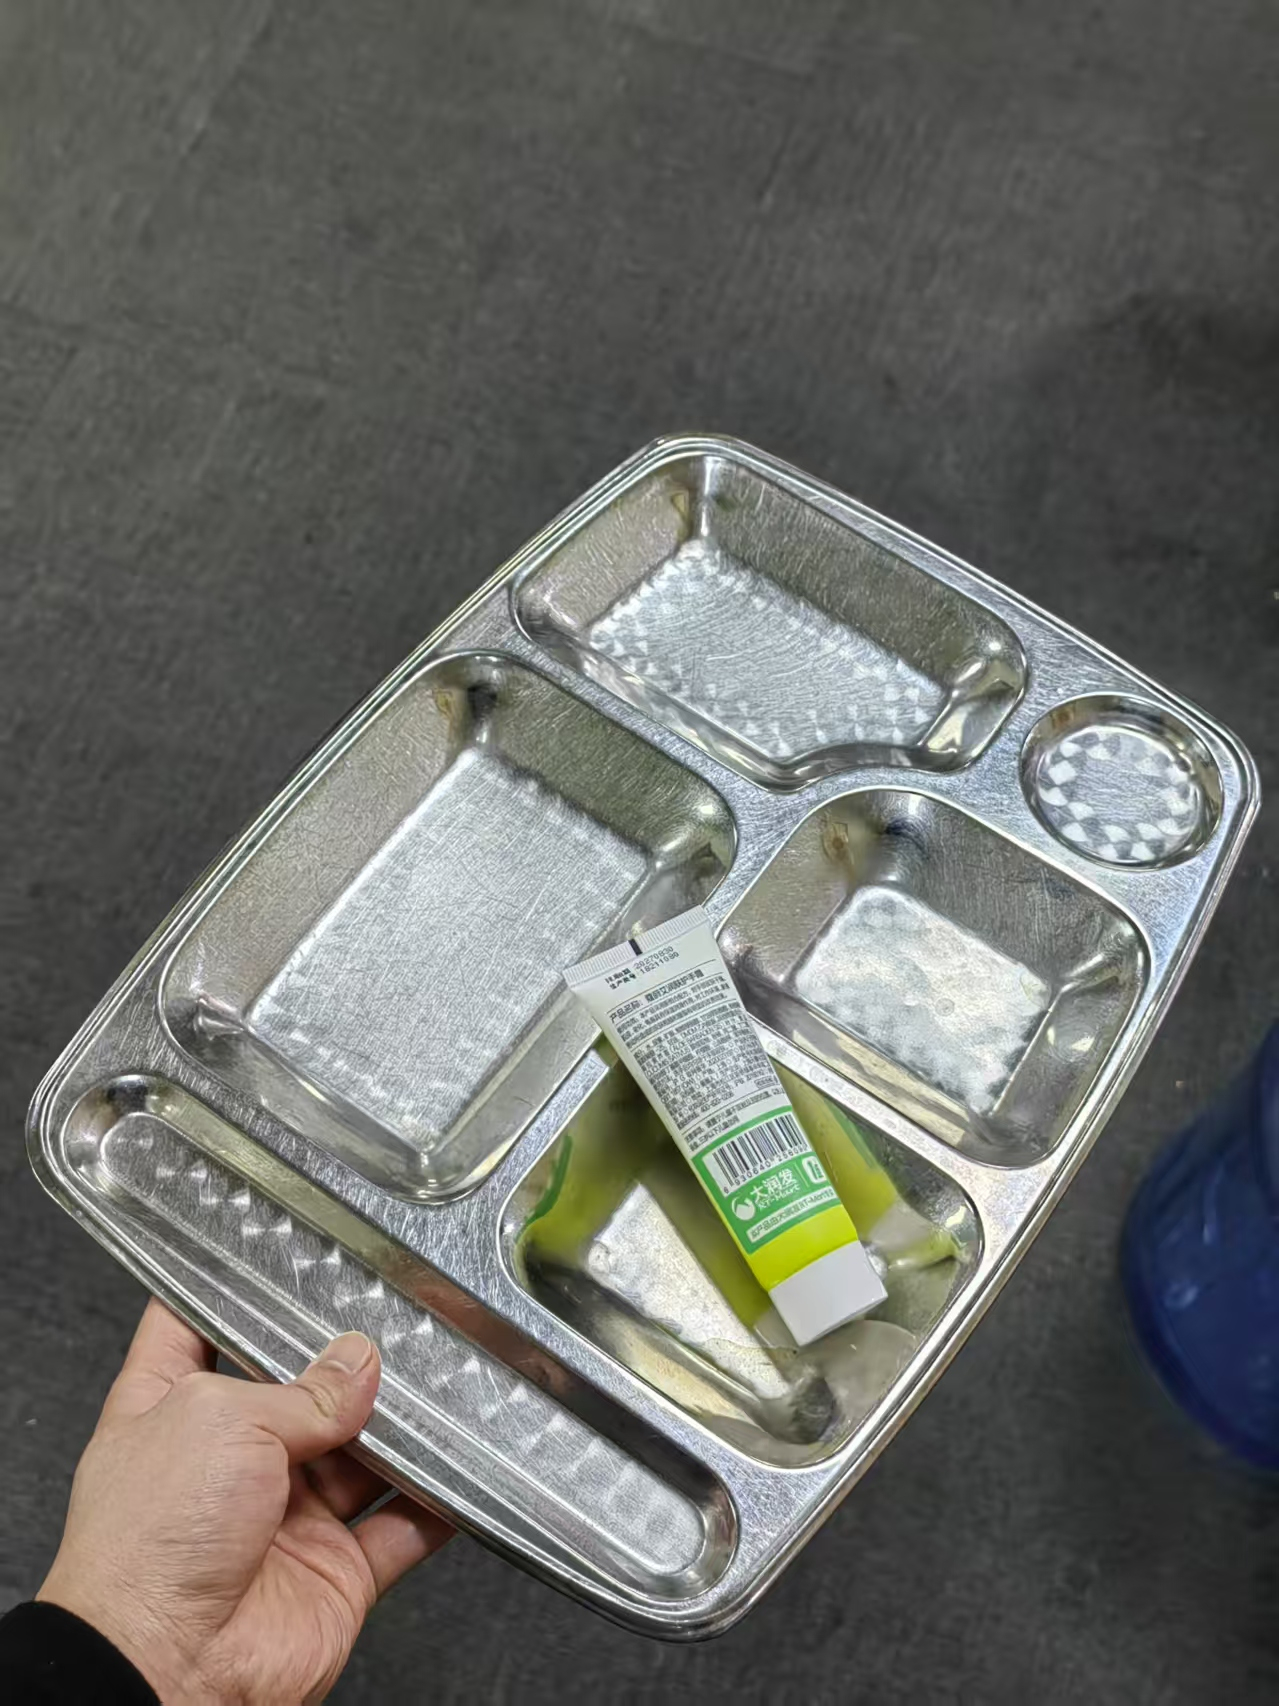mild: (559, 900, 890, 1347)
plate: (18, 431, 1267, 1644)
